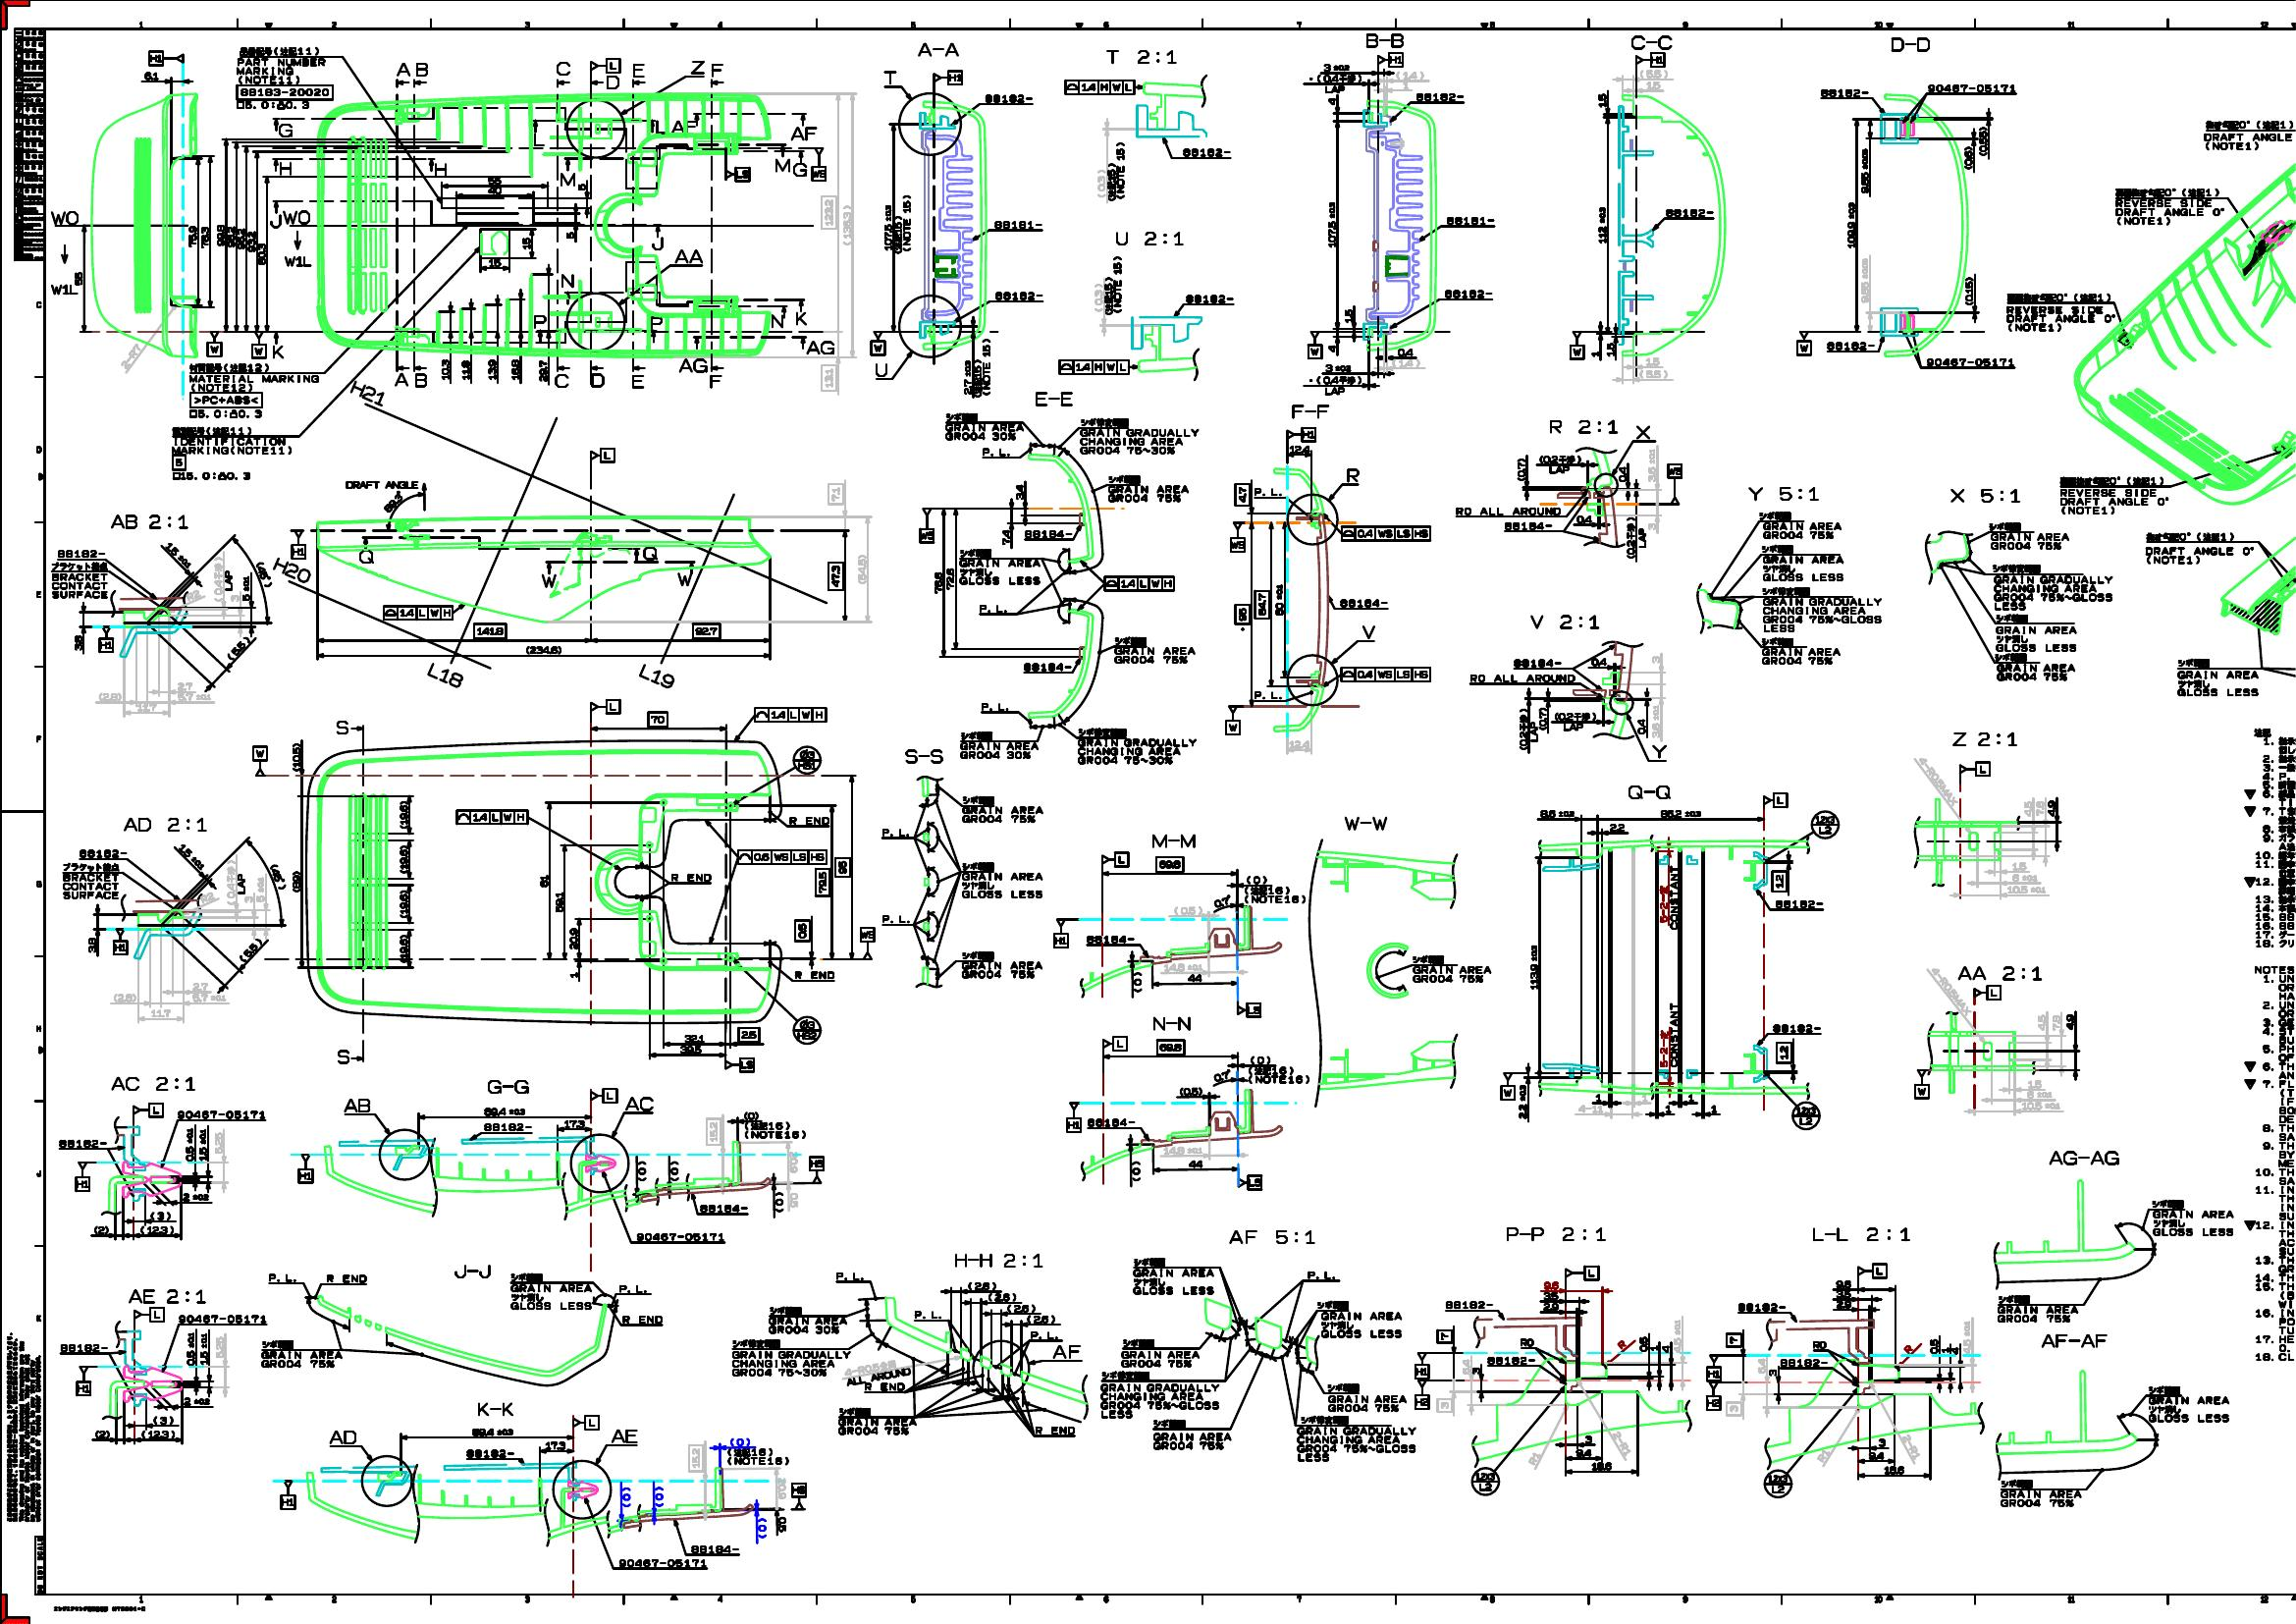anntotation_text: (188, 362, 321, 420), (170, 425, 295, 483), (5, 1330, 40, 1522), (234, 44, 332, 111), (1100, 1369, 1223, 1418), (1295, 1415, 1418, 1462), (1992, 562, 2113, 610), (1760, 587, 1885, 633), (731, 1338, 852, 1378), (1079, 726, 1198, 766), (1079, 418, 1200, 457), (2006, 292, 2117, 334), (2059, 475, 2170, 515), (2113, 186, 2226, 225), (2147, 531, 2256, 564), (1316, 1301, 1404, 1341), (2177, 657, 2261, 698), (957, 547, 1042, 587), (2150, 1199, 2236, 1237), (2147, 1385, 2231, 1424), (1131, 1257, 1216, 1295), (1758, 545, 1846, 582), (1994, 613, 2076, 652), (961, 861, 1043, 900), (509, 1271, 592, 1309), (2201, 118, 2296, 151), (47, 209, 79, 297), (1151, 1418, 1233, 1452), (957, 794, 1045, 824), (766, 1304, 848, 1336), (1112, 634, 1198, 664), (1994, 652, 2076, 682), (1758, 510, 1841, 540), (1989, 520, 2069, 550), (1326, 1383, 1407, 1413), (260, 1339, 344, 1367), (945, 411, 1024, 441), (1121, 1338, 1200, 1367), (838, 1406, 917, 1436), (1409, 954, 1491, 982), (1107, 475, 1189, 503), (1999, 1480, 2082, 1508), (1760, 636, 1841, 664), (961, 951, 1042, 979), (1997, 1294, 2078, 1322), (61, 861, 119, 900), (49, 562, 107, 599), (959, 731, 1040, 758), (1809, 1225, 1913, 1244), (281, 207, 313, 271), (1504, 1225, 1607, 1243), (1103, 46, 1179, 67), (107, 1074, 197, 1091), (952, 1251, 1042, 1269), (121, 816, 209, 833), (1228, 1227, 1316, 1244), (125, 1287, 207, 1304), (1658, 865, 1679, 933), (736, 849, 826, 865), (1340, 666, 1430, 682), (1114, 228, 1186, 248), (111, 513, 190, 531), (1955, 965, 2043, 981), (726, 1446, 791, 1468), (2047, 1149, 2124, 1167), (1948, 487, 2024, 504), (843, 1360, 912, 1380), (1746, 483, 1820, 501), (1527, 613, 1600, 631), (1103, 253, 1124, 315), (1658, 1000, 1678, 1067), (1307, 374, 1363, 397), (1340, 526, 1430, 540), (1103, 575, 1173, 592), (1244, 884, 1305, 903), (892, 192, 912, 253), (971, 337, 991, 399), (1105, 141, 1124, 202), (1307, 72, 1361, 93), (1467, 671, 1576, 682), (457, 808, 529, 824), (754, 707, 826, 722), (1548, 418, 1618, 434), (743, 1121, 806, 1139), (1065, 79, 1135, 95), (1059, 359, 1130, 374), (383, 605, 453, 620), (176, 1107, 265, 1120), (177, 1313, 267, 1325), (1247, 1065, 1309, 1083), (789, 1014, 822, 1046), (1952, 731, 2018, 747), (2041, 1332, 2108, 1348), (271, 559, 314, 582), (1809, 808, 1841, 840), (1451, 506, 1562, 515), (1925, 83, 2017, 93), (1925, 357, 2017, 367), (632, 666, 678, 687), (423, 663, 469, 684), (617, 1557, 706, 1568), (636, 1232, 726, 1243), (1762, 1468, 1794, 1497), (1625, 515, 1646, 559), (1518, 707, 1539, 750), (344, 478, 418, 490), (791, 745, 822, 773), (1790, 1100, 1822, 1128), (227, 859, 246, 905), (346, 383, 386, 404), (1537, 455, 1581, 475), (1470, 1466, 1498, 1496), (53, 1605, 146, 1613), (1555, 712, 1597, 731), (1149, 831, 1200, 847), (1627, 782, 1672, 800), (214, 555, 232, 601), (1906, 775, 1971, 787), (1289, 402, 1330, 422), (1342, 816, 1390, 831), (1890, 35, 1932, 53), (903, 747, 945, 765), (1363, 32, 1405, 49), (1033, 390, 1075, 408), (33, 1534, 46, 1594), (485, 1077, 531, 1093), (1667, 462, 1683, 506), (1149, 1016, 1193, 1032), (913, 42, 963, 56), (1180, 146, 1233, 158), (1184, 292, 1237, 304), (1664, 206, 1715, 218), (1736, 1301, 1787, 1313), (1630, 35, 1674, 49), (453, 1262, 492, 1278), (58, 1137, 107, 1149), (1022, 661, 1072, 673), (476, 1401, 513, 1417), (1444, 214, 1498, 225), (148, 49, 183, 65), (1502, 520, 1555, 531), (341, 1097, 372, 1114), (993, 220, 1045, 230), (1284, 425, 1316, 443), (919, 508, 935, 543), (1414, 91, 1465, 102), (1442, 288, 1493, 299), (1513, 657, 1563, 668), (1774, 898, 1825, 909), (1771, 1023, 1822, 1033), (689, 1543, 740, 1554), (984, 93, 1035, 104), (1022, 529, 1073, 540), (54, 548, 105, 559), (77, 847, 128, 858), (859, 926, 875, 960), (1065, 1102, 1082, 1132), (1498, 1070, 1516, 1100), (1857, 1262, 1887, 1280), (1820, 88, 1869, 98), (1825, 339, 1874, 350), (787, 814, 829, 826), (1087, 1116, 1137, 1127), (466, 1448, 515, 1459), (699, 1202, 748, 1213), (620, 1313, 662, 1325), (993, 290, 1042, 301), (1339, 598, 1388, 608), (1444, 1299, 1493, 1309), (1486, 1355, 1535, 1366), (1922, 986, 1980, 995), (132, 1102, 163, 1118), (676, 357, 708, 373), (590, 700, 622, 715), (279, 1478, 295, 1510), (624, 1095, 655, 1111), (132, 1306, 163, 1322), (673, 246, 704, 262), (805, 341, 836, 357), (1230, 522, 1245, 554), (1780, 1357, 1827, 1367), (864, 1380, 905, 1392), (1305, 330, 1323, 359), (1565, 1265, 1600, 1280), (74, 1366, 90, 1396), (74, 1162, 90, 1192), (1959, 759, 1989, 775), (297, 1153, 313, 1183), (931, 70, 961, 86), (290, 529, 306, 559), (1913, 1069, 1929, 1098), (1706, 1380, 1722, 1410), (1414, 1380, 1430, 1410), (1051, 1343, 1080, 1359), (792, 970, 836, 981), (1084, 933, 1137, 942), (97, 626, 114, 652), (481, 1123, 532, 1132), (1569, 330, 1585, 359), (253, 743, 267, 775), (724, 1058, 755, 1072), (669, 872, 711, 882), (1054, 917, 1068, 949), (1101, 851, 1130, 866), (791, 1482, 806, 1510), (610, 1427, 638, 1443), (329, 1429, 357, 1445), (325, 1272, 367, 1283), (791, 125, 819, 141), (812, 148, 826, 179), (1224, 707, 1240, 735), (1973, 984, 2001, 1000), (1033, 1425, 1075, 1436), (1764, 791, 1788, 808), (60, 1343, 109, 1352), (590, 446, 615, 464), (980, 700, 1010, 714), (590, 58, 620, 72), (249, 332, 265, 359), (573, 1413, 599, 1429), (724, 165, 750, 181), (112, 928, 128, 954), (1706, 1353, 1722, 1380), (1414, 1352, 1430, 1378), (590, 1088, 618, 1102), (1795, 330, 1811, 355), (878, 826, 910, 838), (1237, 1002, 1261, 1018), (977, 601, 1008, 613), (207, 330, 221, 357), (810, 1156, 824, 1183), (870, 330, 884, 357), (1377, 53, 1404, 67), (1635, 53, 1665, 65), (1028, 1329, 1058, 1341), (1103, 1035, 1126, 1051), (1238, 1174, 1261, 1190), (913, 1308, 942, 1320), (980, 446, 1012, 457), (880, 914, 910, 924), (617, 1283, 646, 1294), (267, 1272, 297, 1283), (1253, 689, 1282, 700), (413, 371, 430, 388), (529, 313, 546, 330), (553, 373, 571, 390), (631, 373, 648, 390), (553, 60, 571, 77), (650, 236, 668, 253), (769, 313, 787, 330), (792, 311, 810, 329), (706, 373, 724, 390), (792, 162, 810, 179), (710, 62, 727, 79), (278, 121, 295, 139), (675, 571, 694, 587), (1254, 487, 1282, 497), (393, 371, 409, 388), (560, 271, 576, 288), (590, 373, 608, 388), (648, 315, 666, 330), (1634, 424, 1651, 439), (336, 1048, 351, 1065), (773, 156, 791, 172), (669, 120, 687, 135), (689, 60, 706, 76), (629, 62, 646, 77), (604, 74, 622, 90), (413, 62, 430, 77), (393, 62, 411, 77), (430, 162, 448, 178), (880, 69, 898, 84), (357, 548, 374, 564), (1305, 1271, 1337, 1280), (836, 1271, 866, 1280), (278, 162, 293, 178), (1651, 743, 1667, 759), (560, 172, 576, 188), (1360, 624, 1375, 640), (541, 573, 557, 589), (334, 719, 348, 735), (653, 120, 668, 135), (873, 364, 889, 378), (1346, 468, 1360, 483), (641, 545, 657, 559), (269, 213, 281, 228), (271, 344, 283, 359)
dimension_text: (473, 622, 506, 640), (1527, 944, 1539, 990), (820, 195, 836, 230), (1846, 200, 1857, 250), (1326, 200, 1337, 248), (826, 562, 843, 591), (882, 204, 892, 250), (523, 643, 562, 656), (694, 622, 720, 640), (481, 1106, 525, 1116), (704, 1118, 722, 1144), (820, 364, 838, 390), (1960, 1318, 1973, 1355), (1658, 807, 1700, 817), (1254, 591, 1270, 619), (1156, 1040, 1184, 1056), (815, 868, 831, 896), (2006, 884, 2047, 895), (1860, 257, 1869, 304), (1860, 148, 1869, 195), (1156, 856, 1182, 872), (1597, 206, 1607, 244), (827, 482, 845, 504), (158, 548, 195, 559), (471, 1427, 515, 1436), (689, 1445, 703, 1471), (794, 919, 812, 940), (172, 851, 207, 861), (841, 204, 850, 246), (1606, 1438, 1635, 1450), (235, 944, 265, 956), (223, 642, 253, 654), (738, 1026, 761, 1042), (1163, 1146, 1203, 1155), (184, 1127, 195, 1160), (1274, 582, 1284, 615), (271, 863, 283, 891), (1771, 872, 1788, 891), (966, 1280, 998, 1290), (399, 800, 409, 831), (1093, 281, 1103, 313), (1518, 1083, 1527, 1120), (1539, 808, 1576, 817), (139, 1429, 176, 1438), (963, 359, 971, 395), (1235, 483, 1249, 506), (1173, 905, 1203, 916), (1978, 127, 1989, 156), (1639, 69, 1669, 79), (987, 1292, 1017, 1302), (397, 844, 408, 874), (290, 742, 300, 772), (139, 1225, 174, 1234), (199, 1330, 207, 1366), (1651, 703, 1660, 738), (1672, 1318, 1681, 1353), (648, 710, 666, 728), (191, 993, 227, 1002), (177, 692, 213, 701), (1233, 605, 1249, 624), (379, 496, 404, 508), (183, 1192, 211, 1202), (1897, 1441, 1925, 1452), (1576, 1104, 1604, 1114), (1639, 369, 1667, 380), (183, 1396, 211, 1406), (116, 352, 144, 362), (199, 1127, 207, 1160), (186, 1332, 195, 1366), (1648, 448, 1657, 482), (1163, 963, 1203, 970), (213, 1130, 223, 1156), (2011, 872, 2038, 882), (2022, 1102, 2061, 1109), (857, 554, 866, 584), (1007, 1304, 1036, 1313), (1026, 1315, 1056, 1323), (399, 933, 408, 963), (1395, 70, 1425, 79), (1096, 169, 1105, 199), (1883, 1464, 1904, 1476), (1516, 457, 1527, 482), (1962, 146, 1973, 170), (153, 1413, 174, 1425), (653, 1485, 664, 1510), (1590, 1461, 1614, 1471), (1179, 1086, 1203, 1097), (1131, 1158, 1142, 1183), (569, 926, 580, 951), (290, 868, 300, 893), (97, 691, 121, 701), (538, 359, 548, 383), (1964, 276, 1973, 304), (1391, 359, 1419, 367), (1325, 364, 1353, 373), (836, 858, 850, 875), (399, 889, 408, 917), (255, 875, 264, 903), (260, 559, 269, 587), (1323, 62, 1351, 70), (776, 1476, 787, 1499), (669, 1160, 680, 1183), (1249, 1055, 1272, 1065), (1212, 895, 1231, 907), (111, 993, 137, 1002), (241, 575, 249, 601), (149, 1211, 170, 1222), (1288, 740, 1309, 750), (773, 1192, 783, 1213), (1437, 1329, 1453, 1343), (1245, 874, 1267, 884), (487, 359, 497, 380), (460, 359, 471, 380), (1186, 972, 1203, 984), (945, 566, 954, 591), (256, 241, 265, 265), (237, 227, 246, 251), (188, 223, 197, 248), (1927, 1336, 1938, 1355), (1212, 1070, 1231, 1081), (933, 571, 942, 594), (1539, 707, 1548, 729), (214, 1336, 223, 1359), (683, 1033, 706, 1042), (680, 1044, 703, 1053), (555, 891, 564, 914), (149, 1009, 172, 1018), (248, 230, 256, 253), (227, 225, 235, 248), (216, 223, 225, 246), (200, 225, 209, 248), (1725, 1334, 1741, 1346), (1725, 1401, 1741, 1413), (1437, 1399, 1453, 1411), (2025, 1091, 2052, 1098), (2036, 1014, 2047, 1032), (2064, 1012, 2075, 1030), (1133, 972, 1142, 993), (1635, 717, 1646, 735), (1397, 346, 1414, 357), (545, 1441, 566, 1450), (622, 1487, 631, 1508), (729, 1436, 750, 1445), (757, 1517, 766, 1538), (564, 1120, 585, 1128), (638, 1160, 646, 1181), (789, 1192, 799, 1209), (86, 935, 97, 953), (176, 680, 193, 691), (511, 359, 520, 380), (2047, 798, 2055, 817), (1289, 445, 1309, 453), (1639, 1334, 1648, 1353), (137, 703, 156, 712), (2011, 861, 2027, 872), (1590, 656, 1606, 666), (1518, 1336, 1534, 1346), (1542, 1280, 1558, 1290), (1815, 1452, 1830, 1462), (93, 1225, 111, 1234), (1834, 1299, 1852, 1308), (1757, 1357, 1765, 1374), (2024, 800, 2032, 817), (184, 591, 202, 599), (1015, 483, 1024, 501), (778, 1515, 787, 1533), (74, 633, 83, 650), (1597, 93, 1607, 107), (193, 981, 207, 991), (441, 359, 448, 380), (144, 70, 158, 81), (2034, 800, 2043, 816), (1609, 823, 1625, 831), (1001, 529, 1010, 545), (1576, 515, 1592, 524), (1618, 466, 1627, 482), (1646, 81, 1662, 90), (1644, 357, 1660, 366), (1606, 341, 1614, 357), (93, 1429, 109, 1438), (743, 1111, 759, 1120), (791, 1158, 799, 1174), (1462, 1359, 1470, 1374), (1525, 1454, 1541, 1462), (1542, 1302, 1558, 1311), (1542, 1292, 1558, 1301), (1188, 1160, 1203, 1169), (539, 874, 548, 889), (199, 893, 214, 902), (1344, 308, 1353, 323), (487, 186, 502, 195), (1834, 1280, 1852, 1287), (1834, 1290, 1852, 1297), (1813, 1341, 1827, 1350), (2052, 1014, 2059, 1032), (488, 258, 502, 267), (522, 236, 531, 250), (1869, 1452, 1885, 1459), (1903, 1343, 1913, 1353), (487, 178, 502, 185), (2027, 1081, 2041, 1088), (1939, 1346, 1950, 1355), (1950, 1345, 1959, 1355), (1709, 1104, 1718, 1114), (1664, 1104, 1672, 1114), (1583, 1434, 1593, 1443), (1574, 1450, 1592, 1455), (1616, 1341, 1627, 1350), (244, 895, 253, 905), (1326, 344, 1337, 353), (1326, 97, 1337, 105), (1767, 1369, 1780, 1376), (1593, 1091, 1602, 1100), (1651, 656, 1660, 664), (1648, 522, 1657, 531), (1590, 350, 1599, 359), (1650, 1343, 1658, 1352), (230, 592, 239, 601), (1400, 81, 1409, 90), (566, 230, 574, 239), (1662, 1343, 1669, 1353), (1878, 1438, 1885, 1446), (1641, 1093, 1648, 1102), (1472, 1367, 1481, 1374), (578, 183, 587, 190), (1686, 1093, 1693, 1100)
object: (302, 738, 782, 1026), (314, 90, 773, 359), (2069, 158, 2296, 506), (1539, 837, 1811, 1097), (313, 515, 773, 624), (321, 1134, 778, 1216), (304, 1461, 754, 1543), (1309, 847, 1456, 1091), (1765, 1316, 1983, 1466), (1474, 1315, 1688, 1462), (90, 90, 202, 359), (1616, 93, 1727, 357), (302, 1295, 620, 1385), (863, 1295, 1087, 1422), (1878, 91, 1973, 359), (1126, 77, 1209, 374), (1026, 439, 1107, 731), (1360, 97, 1439, 352), (1080, 902, 1284, 997), (1079, 1086, 1284, 1176), (917, 98, 987, 353), (1996, 1369, 2159, 1473), (1992, 1178, 2152, 1281), (1272, 466, 1333, 733), (1913, 796, 2020, 889), (1203, 1295, 1318, 1378), (1925, 1011, 2034, 1093), (104, 1125, 181, 1214), (913, 773, 945, 990), (107, 1329, 183, 1418), (1555, 448, 1620, 547), (1570, 640, 1632, 738), (121, 893, 202, 961), (111, 591, 191, 657), (1924, 531, 1973, 587), (1693, 582, 1743, 633)
title_block: (12, 26, 46, 262)
